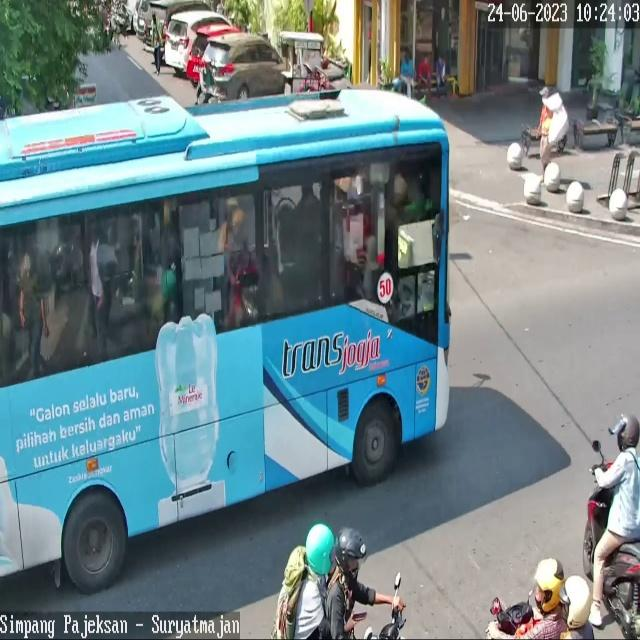bus: (582, 461, 640, 640), (496, 599, 534, 636), (375, 617, 409, 640)
car: (1, 88, 452, 592)
motorcycle: (201, 34, 281, 99), (164, 9, 233, 67), (144, 0, 212, 54), (186, 24, 242, 82)
